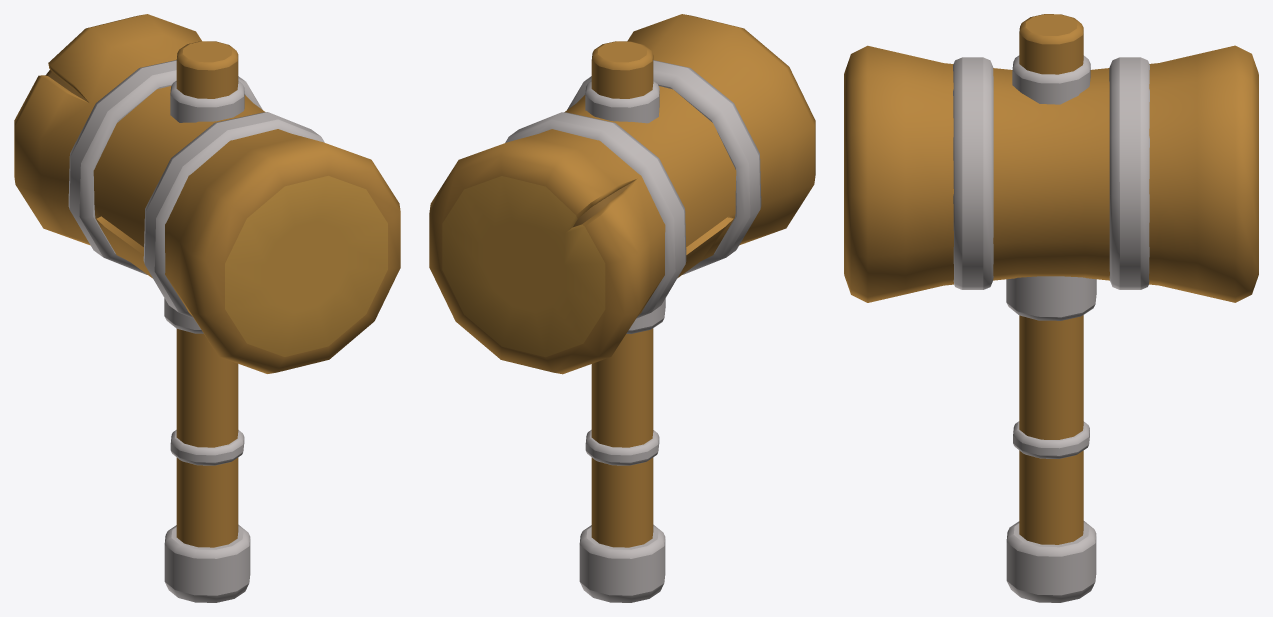
The model's file is Marteau.fbx.
The picture shows the model from 3 angles, left to right: view 1: azimuth 30°, elevation 25°; view 2: azimuth 150°, elevation 25°; view 3: azimuth 270°, elevation 25°; orthographic projection. The views are drawn at different scales.
Visible parts, largest first — view 1: Marteau; view 2: Marteau; view 3: Marteau.
Boxes of the visible parts, x1,y1,x2,y2 form: Marteau: (14, 14, 400, 602); Marteau: (429, 14, 815, 602); Marteau: (844, 14, 1258, 602).
Bounding box in the file's own units: 24.03 × 59.19 × 39.42.
